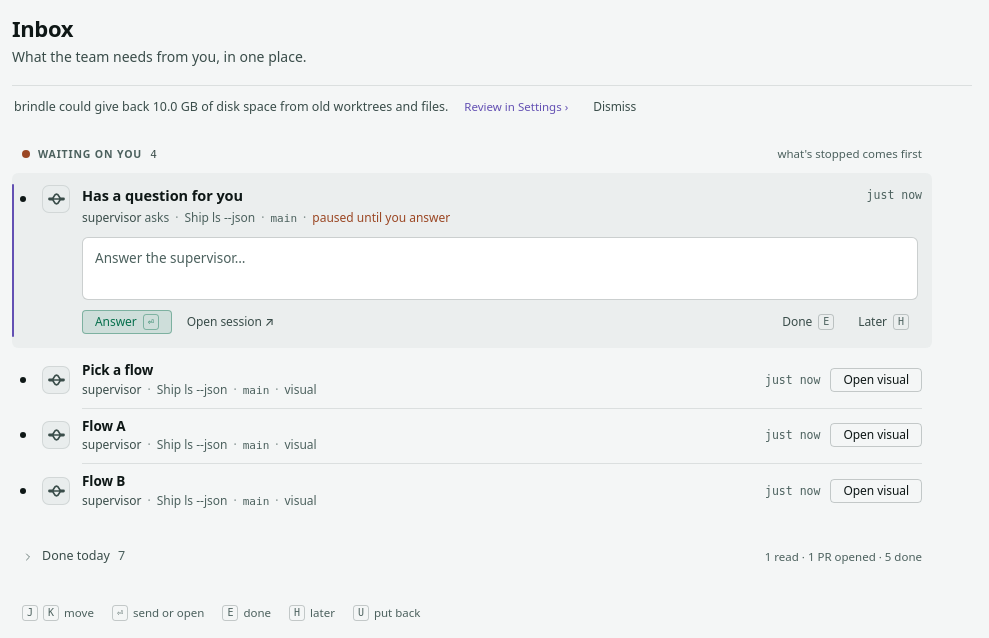
Test: inbox › visual ready card opens the reader and dismisses independently on a read refresh
Step 1. Click the 2nd button "Open visual" → [876, 436], box [830,424,922,448]
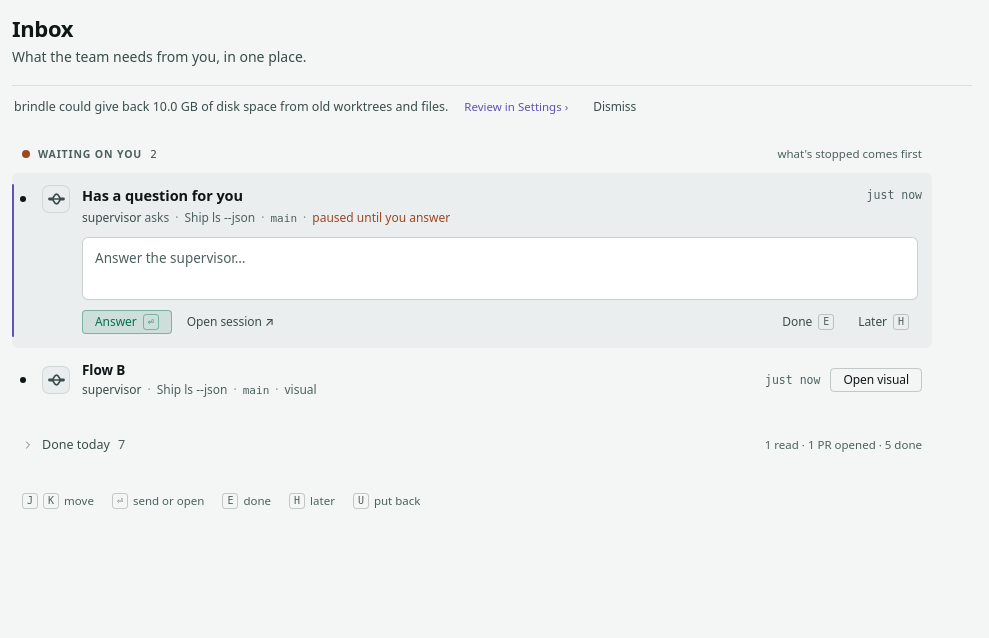
Expected: the text "Flow B" is shown, [82,361,125,379]
Result: the button "Flow A" is gone
Result: the button "Pick a flow" is gone
